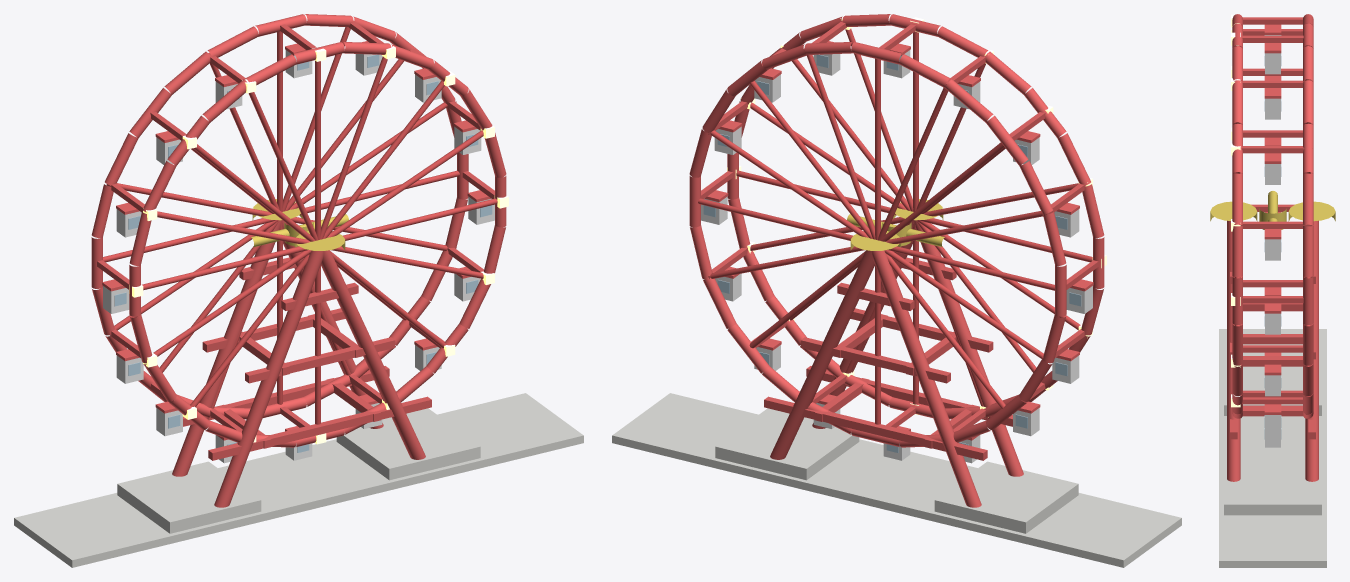
Rendered from wheel.gltf.
3 renders of one model, left to right at view 1: azimuth 30°, elevation 25°; view 2: azimuth 150°, elevation 25°; view 3: azimuth 270°, elevation 25°, orthographic. The views are drawn at different scales.
Parts seen in each view (by area): view 1: ground_slab, footing_L, footing_R, leg_L_front, leg_R_front, leg_L_rear, spoke_F_2, spoke_F_1, spoke_F_10, spoke_F_11, spoke_F_3, brace_L_lo_F (+23 smaller); view 2: ground_slab, footing_L, footing_R, leg_L_rear, leg_R_rear, leg_L_front, spoke_R_2, spoke_R_1, spoke_R_10, spoke_R_11, spoke_R_3, brace_L_lo_R (+22 smaller); view 3: ground_slab, footing_R, leg_R_rear, leg_R_front, footing_L, z_link_R_md, hub_rear, hub_front, rim_R_4, rim_F_4, rim_R_5, rim_F_5 (+53 smaller).
Part boxes in pixels (x1,y1,x2,y2): ground_slab: [14, 393, 583, 567]; footing_L: [117, 461, 261, 533]; footing_R: [336, 408, 480, 480]; leg_L_front: [214, 250, 323, 507]; leg_R_front: [321, 250, 425, 459]; leg_L_rear: [172, 220, 281, 476]; spoke_F_2: [323, 81, 444, 238]; spoke_F_1: [320, 56, 387, 239]; spoke_F_10: [190, 254, 309, 406]; spoke_F_11: [153, 250, 311, 356]; spoke_F_3: [327, 130, 483, 237]; brace_L_lo_F: [208, 424, 322, 460]; ground_slab: [612, 393, 1181, 567]; footing_L: [934, 461, 1078, 533]; footing_R: [715, 408, 859, 480]; leg_L_rear: [872, 250, 981, 507]; leg_R_rear: [770, 250, 874, 459]; leg_L_front: [914, 220, 1023, 476]; spoke_R_2: [749, 81, 872, 238]; spoke_R_1: [806, 55, 875, 239]; spoke_R_10: [886, 254, 1005, 408]; spoke_R_11: [884, 250, 1043, 358]; spoke_R_3: [710, 130, 868, 237]; brace_L_lo_R: [873, 424, 987, 460]; ground_slab: [1219, 329, 1326, 567]; footing_R: [1224, 463, 1321, 515]; leg_R_rear: [1305, 220, 1318, 481]; leg_R_front: [1227, 220, 1240, 481]; footing_L: [1224, 364, 1321, 415]; z_link_R_md: [1243, 334, 1302, 344]; hub_rear: [1288, 201, 1335, 221]; hub_front: [1210, 201, 1257, 221]; rim_R_4: [1303, 173, 1313, 224]; rim_F_4: [1232, 173, 1242, 224]; rim_R_5: [1303, 226, 1313, 276]; rim_F_5: [1232, 226, 1242, 276].
Bounding box in the file's own units: 108 × 91.61 × 24.77.
